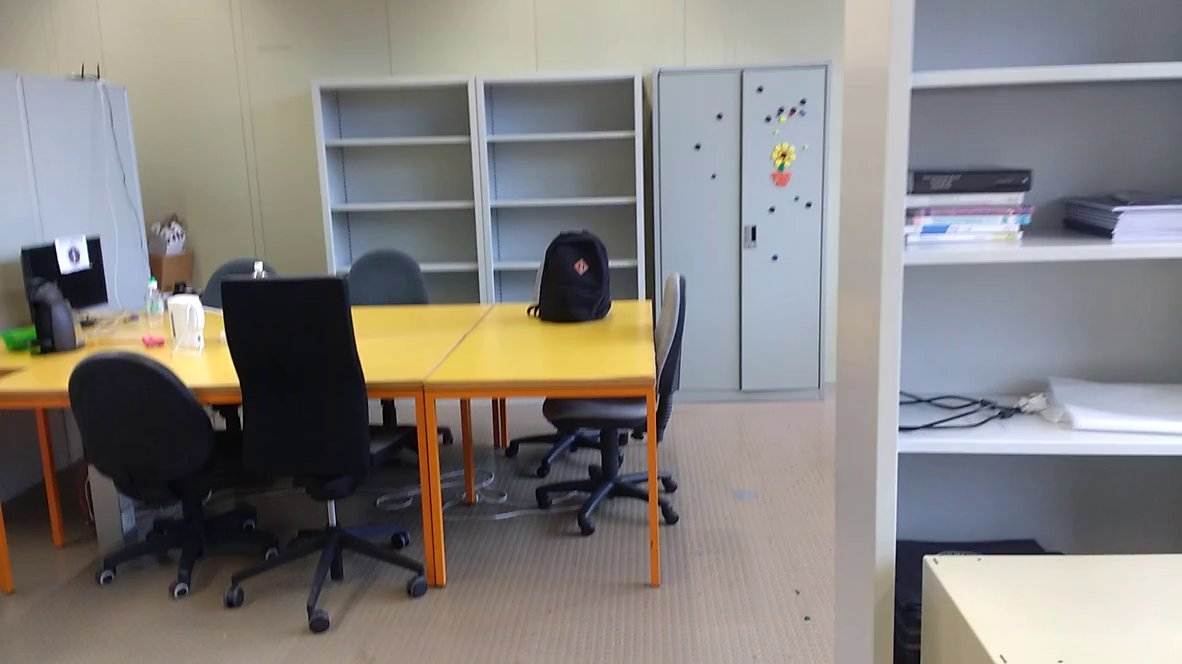bag: (524, 217, 618, 333)
chair: (213, 266, 437, 628), (64, 336, 298, 617), (538, 252, 704, 552), (337, 239, 443, 330)
